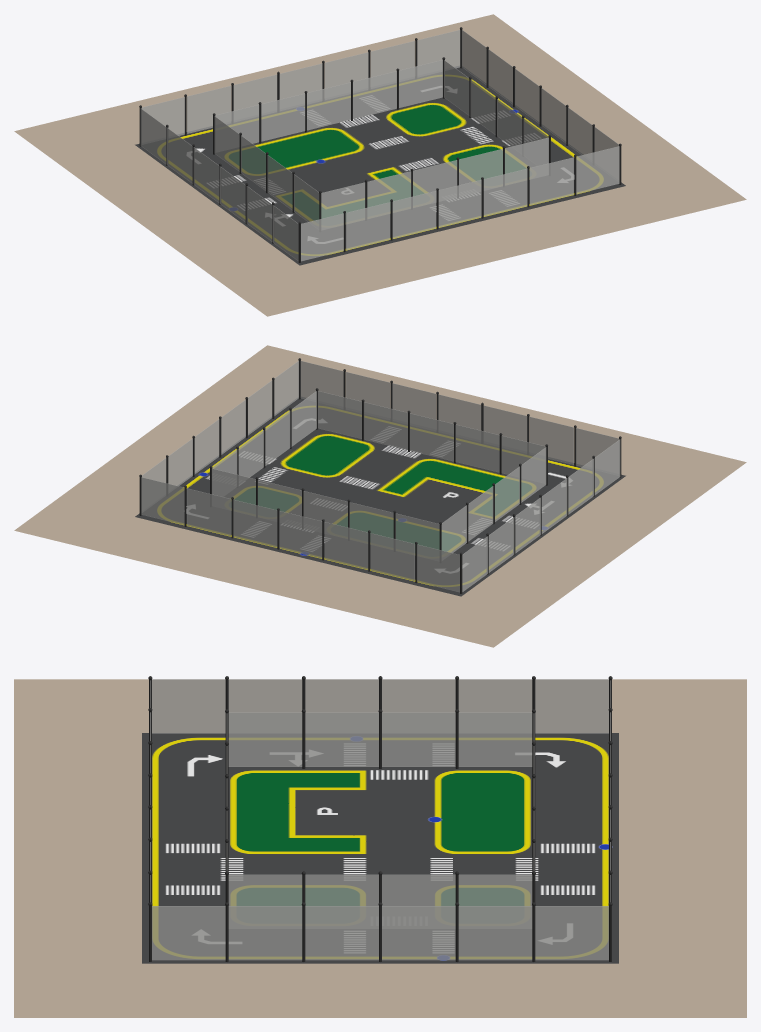
The model's file is track.glb.
The picture shows the model from 3 angles, top to bottom: view 1: azimuth 30°, elevation 25°; view 2: azimuth 150°, elevation 25°; view 3: azimuth 270°, elevation 25°; orthographic projection. The views are drawn at different scales.
Parts seen in each view (by area): view 1: Floor, Mat, Panel-25, Panel-21, Panel-22, Panel-32, Panel-24, Panel-20, Panel-34, Panel-33, Panel-35, Panel-23 (+34 smaller); view 2: Floor, Mat, Panel-8, Panel-12, Panel-11, Panel-43, Panel-9, Panel-13, Panel-41, Panel-40, Panel-42, Panel-10 (+34 smaller); view 3: Floor, Mat, Panel-15, Panel-18, Panel-27, Panel-30, Panel-36, Panel-39, Panel-14, Panel-16, Panel-17, Panel-19 (+10 smaller).
Part boxes in pixels (x1=…): Floor: x1=14, y1=14, x2=746, y2=316; Mat: x1=135, y1=66, x2=625, y2=265; Panel-25: x1=346, y1=202, x2=390, y2=250; Panel-21: x1=529, y1=157, x2=573, y2=205; Panel-22: x1=483, y1=169, x2=527, y2=216; Panel-32: x1=261, y1=93, x2=305, y2=141; Panel-24: x1=392, y1=191, x2=436, y2=238; Panel-20: x1=576, y1=146, x2=619, y2=194; Panel-34: x1=353, y1=71, x2=396, y2=119; Panel-33: x1=307, y1=82, x2=350, y2=130; Panel-35: x1=399, y1=60, x2=442, y2=107; Panel-23: x1=438, y1=180, x2=481, y2=227; Floor: x1=14, y1=345, x2=746, y2=647; Mat: x1=135, y1=397, x2=625, y2=596; Panel-8: x1=370, y1=533, x2=414, y2=581; Panel-12: x1=187, y1=488, x2=231, y2=536; Panel-11: x1=233, y1=500, x2=277, y2=547; Panel-43: x1=455, y1=424, x2=499, y2=472; Panel-9: x1=324, y1=522, x2=368, y2=569; Panel-13: x1=141, y1=477, x2=184, y2=525; Panel-41: x1=364, y1=402, x2=407, y2=450; Panel-40: x1=318, y1=391, x2=361, y2=438; Panel-42: x1=410, y1=413, x2=453, y2=461; Panel-10: x1=279, y1=511, x2=322, y2=558; Floor: x1=14, y1=679, x2=746, y2=1017; Mat: x1=142, y1=733, x2=618, y2=963; Panel-15: x1=458, y1=906, x2=532, y2=960; Panel-18: x1=228, y1=906, x2=302, y2=960; Panel-27: x1=228, y1=712, x2=302, y2=766; Panel-30: x1=458, y1=712, x2=532, y2=766; Panel-36: x1=458, y1=874, x2=532, y2=928; Panel-39: x1=228, y1=874, x2=302, y2=928; Panel-14: x1=535, y1=906, x2=608, y2=960; Panel-16: x1=382, y1=906, x2=455, y2=960; Panel-17: x1=305, y1=906, x2=378, y2=960; Panel-19: x1=152, y1=906, x2=225, y2=960.
Bounding box in the file's own units: 4.7 × 0.383 × 4.3.
4 materials, 1 textured.
